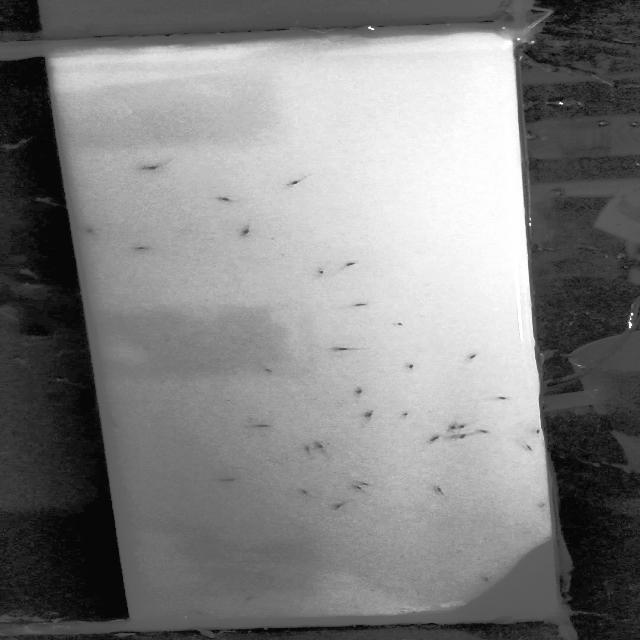shrimp: (127, 160, 167, 173), (423, 484, 454, 499), (208, 193, 242, 206), (347, 298, 377, 312), (328, 344, 361, 356), (518, 440, 544, 454), (488, 392, 512, 405), (290, 483, 314, 496), (331, 501, 351, 516), (287, 176, 310, 189), (227, 226, 256, 236), (132, 243, 154, 256), (399, 409, 421, 422), (183, 608, 214, 617), (314, 267, 336, 279), (358, 410, 384, 420), (478, 575, 498, 588), (342, 260, 365, 271), (463, 352, 484, 364), (353, 386, 374, 398), (238, 594, 265, 603), (476, 428, 505, 436), (81, 226, 102, 237), (420, 432, 443, 442), (403, 361, 425, 371), (258, 366, 280, 376), (348, 482, 366, 493), (252, 422, 274, 431), (388, 320, 412, 328), (315, 441, 332, 451), (222, 476, 242, 484), (453, 432, 472, 440), (457, 422, 471, 432), (446, 422, 458, 432), (300, 445, 314, 453), (532, 428, 540, 434)
